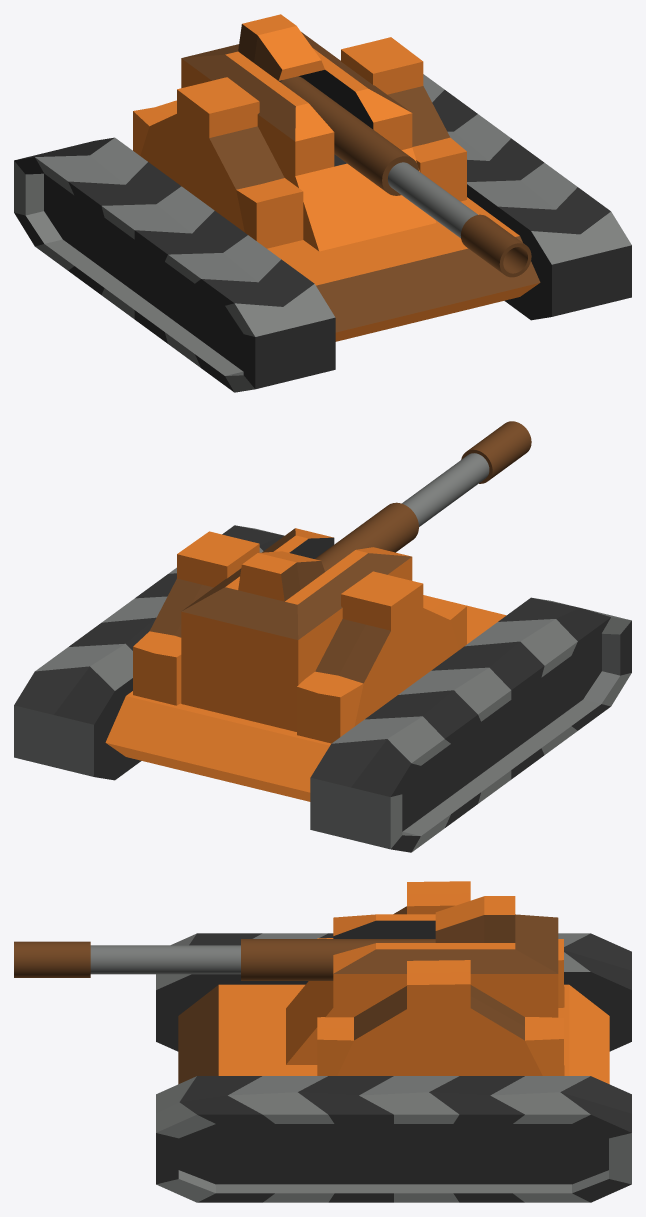
Rendered from tank_concept 1.fbx.
The picture shows the model from 3 angles, top to bottom: view 1: azimuth 30°, elevation 25°; view 2: azimuth 150°, elevation 25°; view 3: azimuth 270°, elevation 25°; orthographic projection.
Parts seen in each view (by area): view 1: Cube.001, Torus, Cube.002, Cube, Cylinder; view 2: Cube.001, Cube.002, Torus, Cube, Cylinder; view 3: Cube.001, Torus, Cube.002, Cube, Cylinder.
Part boxes in pixels (x1,y1,x2,y2): Cube.001: (14, 74, 631, 392); Torus: (133, 37, 466, 248); Cube.002: (181, 14, 435, 251); Cube: (267, 197, 540, 341); Cylinder: (280, 76, 531, 277); Cube.001: (14, 525, 631, 852); Cube.002: (181, 528, 412, 731); Torus: (133, 531, 466, 743); Cube: (105, 595, 506, 801); Cylinder: (315, 421, 531, 571); Cube.001: (156, 933, 631, 1202); Torus: (317, 881, 564, 1075); Cube.002: (286, 896, 558, 1064); Cube: (178, 984, 609, 1084); Cylinder: (14, 939, 435, 980).
Bounding box in the file's own units: 79.58 × 42.3 × 115.
